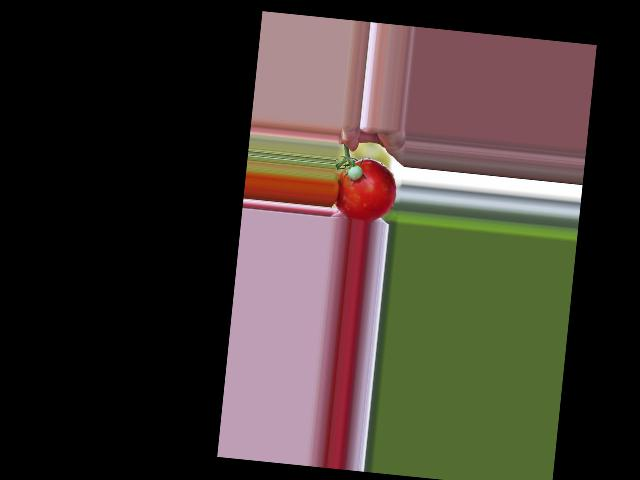tomato: (333, 155, 398, 224)
